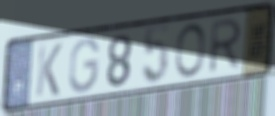5: (141, 22, 171, 87)
8: (106, 33, 133, 88)
G: (67, 36, 102, 96)
K: (34, 41, 64, 99)
O: (174, 22, 206, 80)
R: (206, 16, 246, 77)
